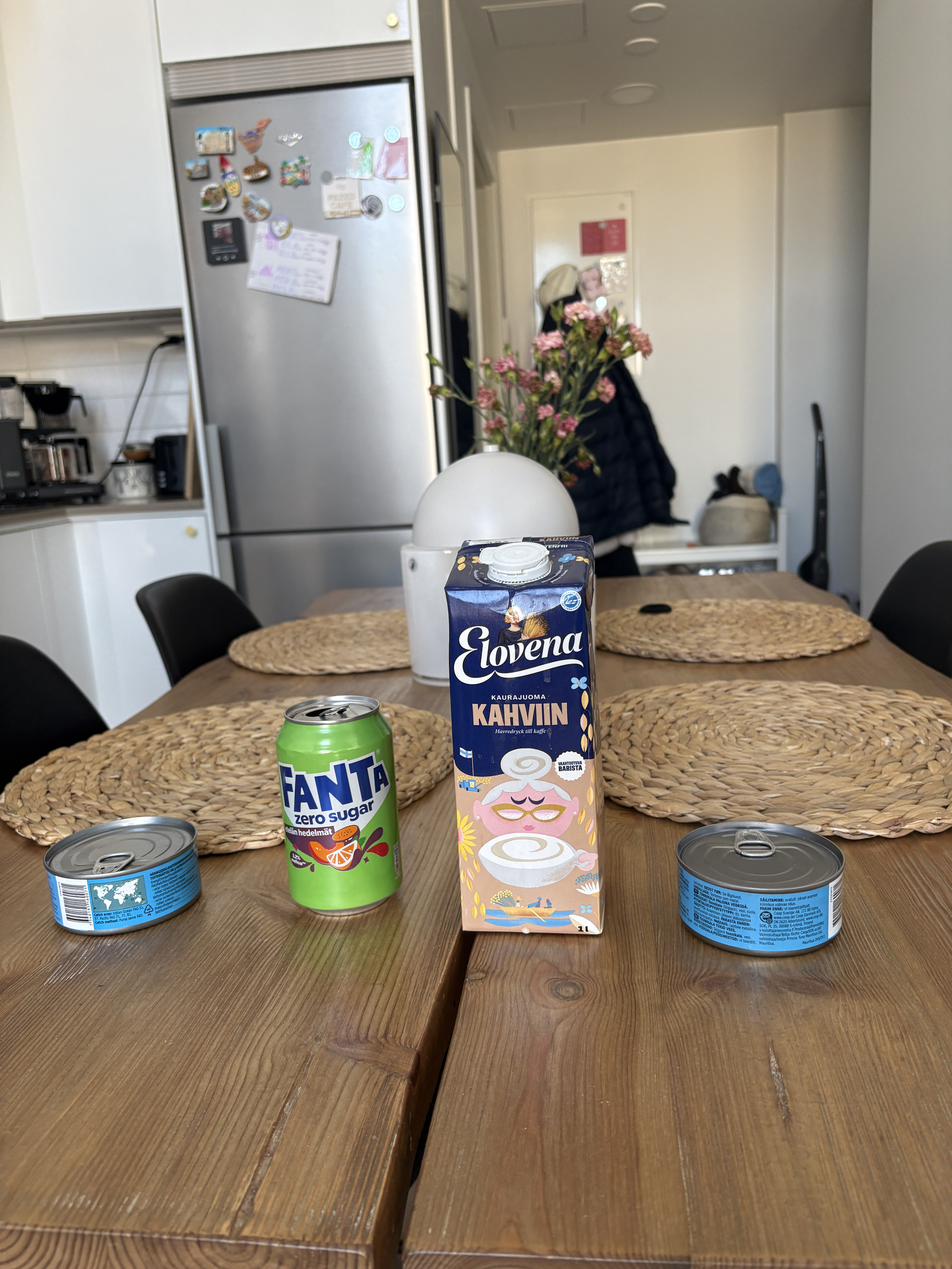Dryckeskartong: (434, 532, 613, 949)
Konservburk: (656, 808, 883, 987), (36, 808, 217, 946)
Pantburk: (266, 683, 422, 932)
